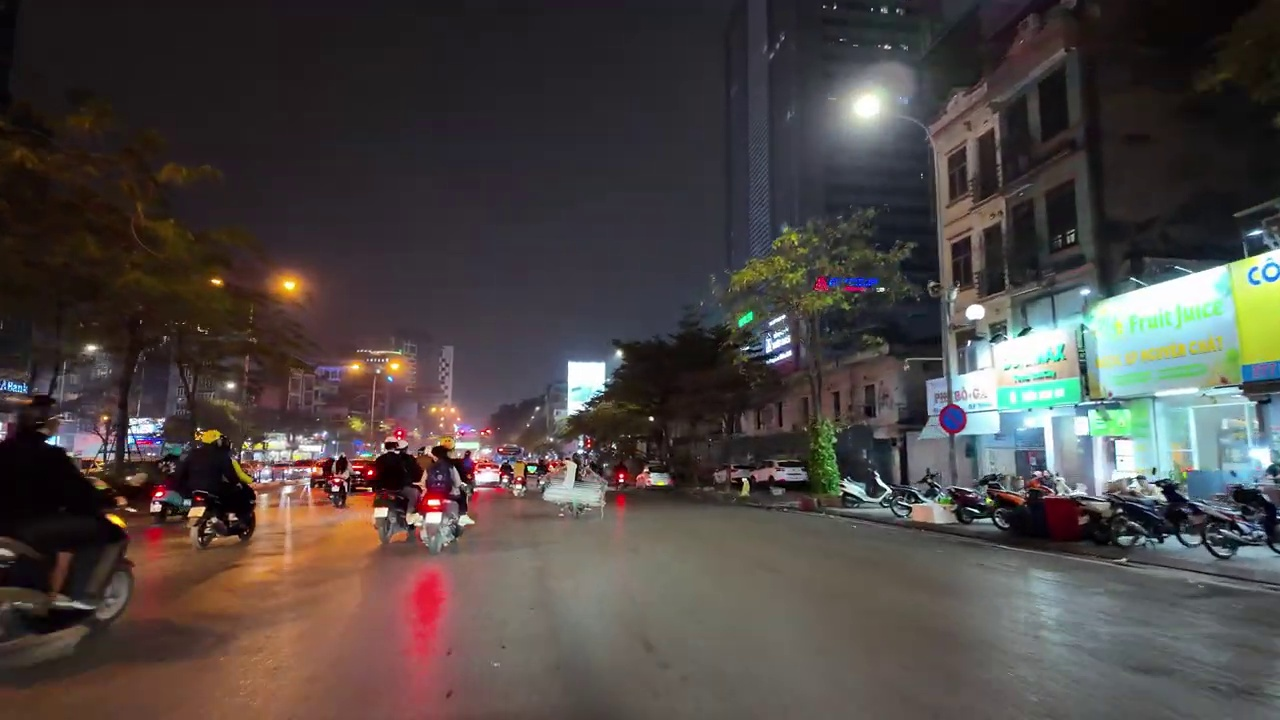acesa: (848, 86, 887, 125), (271, 271, 307, 302), (344, 357, 367, 380)
